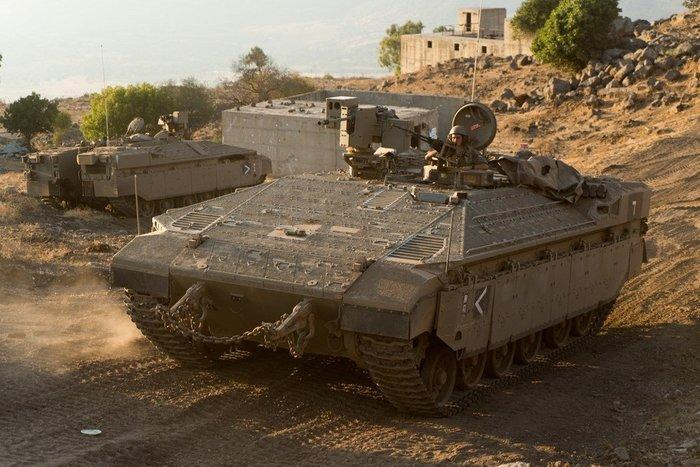MIL_IFV: (113, 99, 655, 417), (27, 110, 276, 222)
